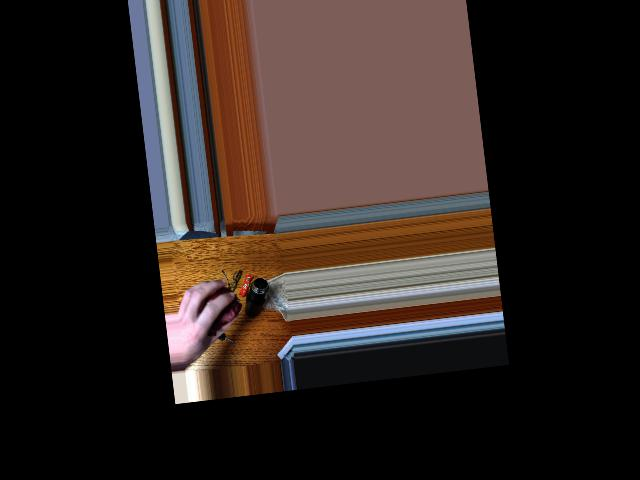onion: (200, 286, 237, 325)
